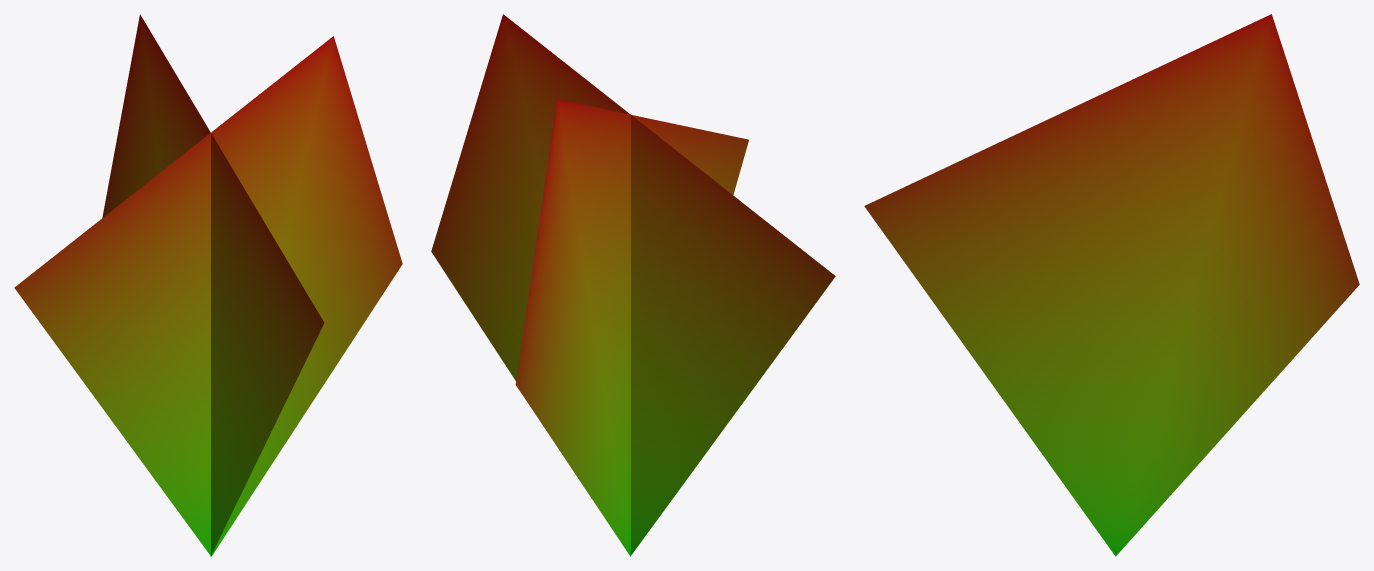
File: Bird Of Paradise_LOD5_Var8_wfypeifha.fbx
The picture shows the model from 3 angles, left to right: view 1: azimuth 30°, elevation 25°; view 2: azimuth 150°, elevation 25°; view 3: azimuth 270°, elevation 25°; orthographic projection. The views are drawn at different scales.
Parts seen in each view (by area): view 1: _ep65_Var8_LOD5; view 2: _ep65_Var8_LOD5; view 3: _ep65_Var8_LOD5.
Part boxes in pixels (x1=…): _ep65_Var8_LOD5: x1=14, y1=14, x2=402, y2=556; _ep65_Var8_LOD5: x1=431, y1=14, x2=835, y2=556; _ep65_Var8_LOD5: x1=864, y1=14, x2=1359, y2=556.
Size of the model in its own units: 165 by 199 by 165.
